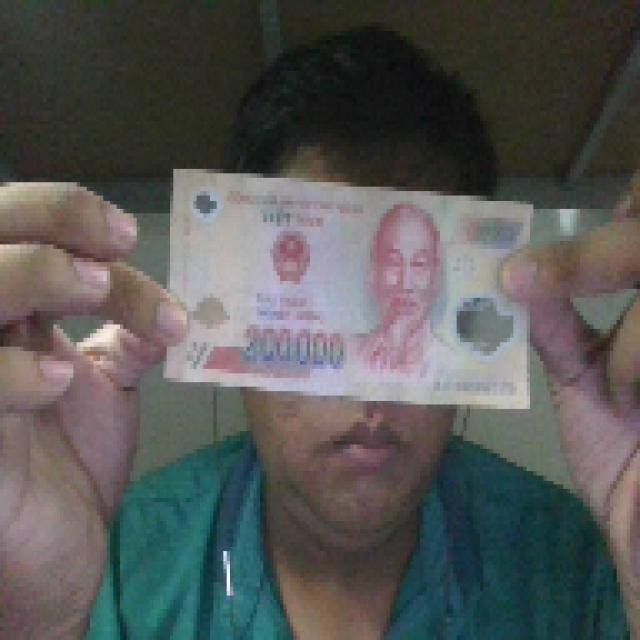200 000 VND: (160, 160, 537, 413)
